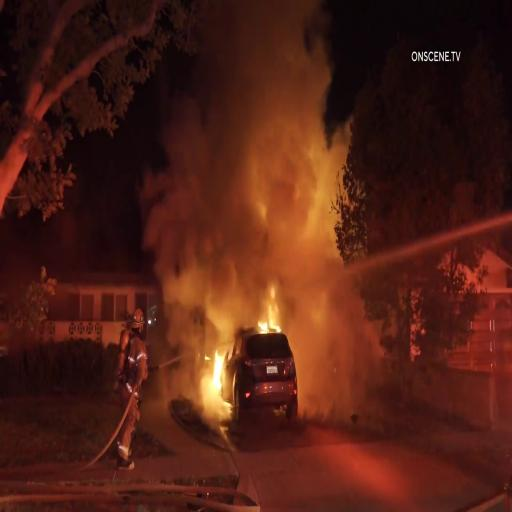fire: (196, 358, 224, 416), (255, 310, 293, 340)
smoke: (203, 0, 328, 182), (149, 192, 339, 295), (304, 282, 377, 417)
